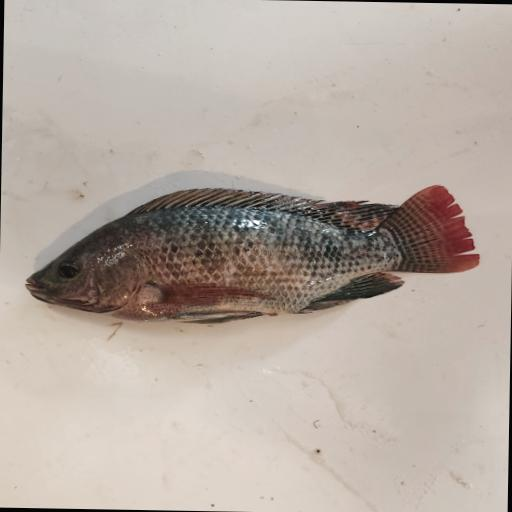Tilapia: (23, 178, 483, 328)
